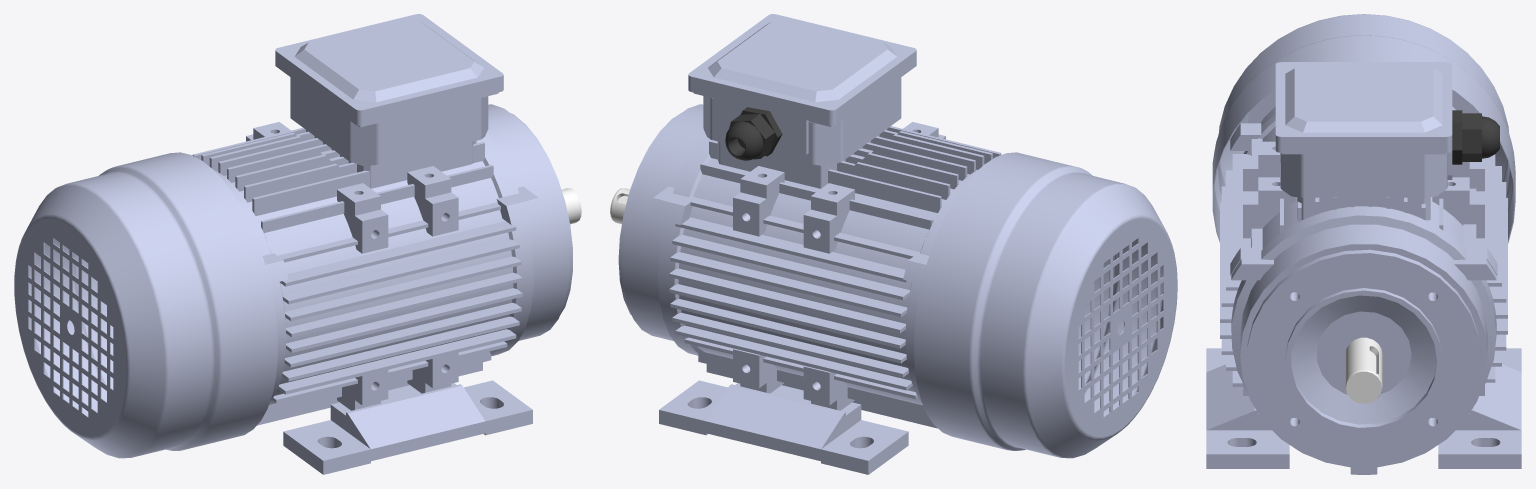
The model's file is Motor.fbx.
3 renders of one model, left to right at view 1: azimuth 30°, elevation 25°; view 2: azimuth 150°, elevation 25°; view 3: azimuth 270°, elevation 25°, orthographic. The views are drawn at different scales.
Parts seen in each view (by area): view 1: Cut-Extrude8, Cut-Extrude7, Boss-Extrude17[1]; view 2: Cut-Extrude8, Cut-Extrude7, Boss-Extrude17[2]; view 3: Cut-Extrude8, Cut-Extrude7, Boss-Extrude20[1], LPattern1[1], Boss-Extrude17[1], Boss-Extrude17[2].
Part boxes in pixels (x1,y1,x2,y2): Cut-Extrude8: (192,14,581,474); Cut-Extrude7: (14,152,277,458); Boss-Extrude17[1]: (496,193,534,224); Cut-Extrude8: (610,14,1001,474); Cut-Extrude7: (914,152,1177,458); Boss-Extrude17[2]: (657,193,694,224); Cut-Extrude8: (1206,62,1521,468); Cut-Extrude7: (1212,14,1515,243); Boss-Extrude20[1]: (1231,259,1496,280); LPattern1[1]: (1230,123,1261,150); Boss-Extrude17[1]: (1230,247,1261,275); Boss-Extrude17[2]: (1466,247,1497,275).
Size of the model in its own units: 12.07 by 7.57 by 6.32.
